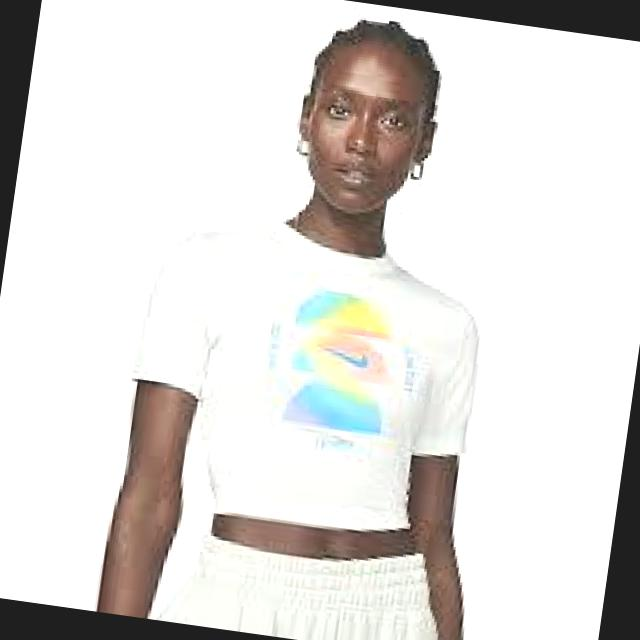Tshirt: (112, 203, 501, 553)
